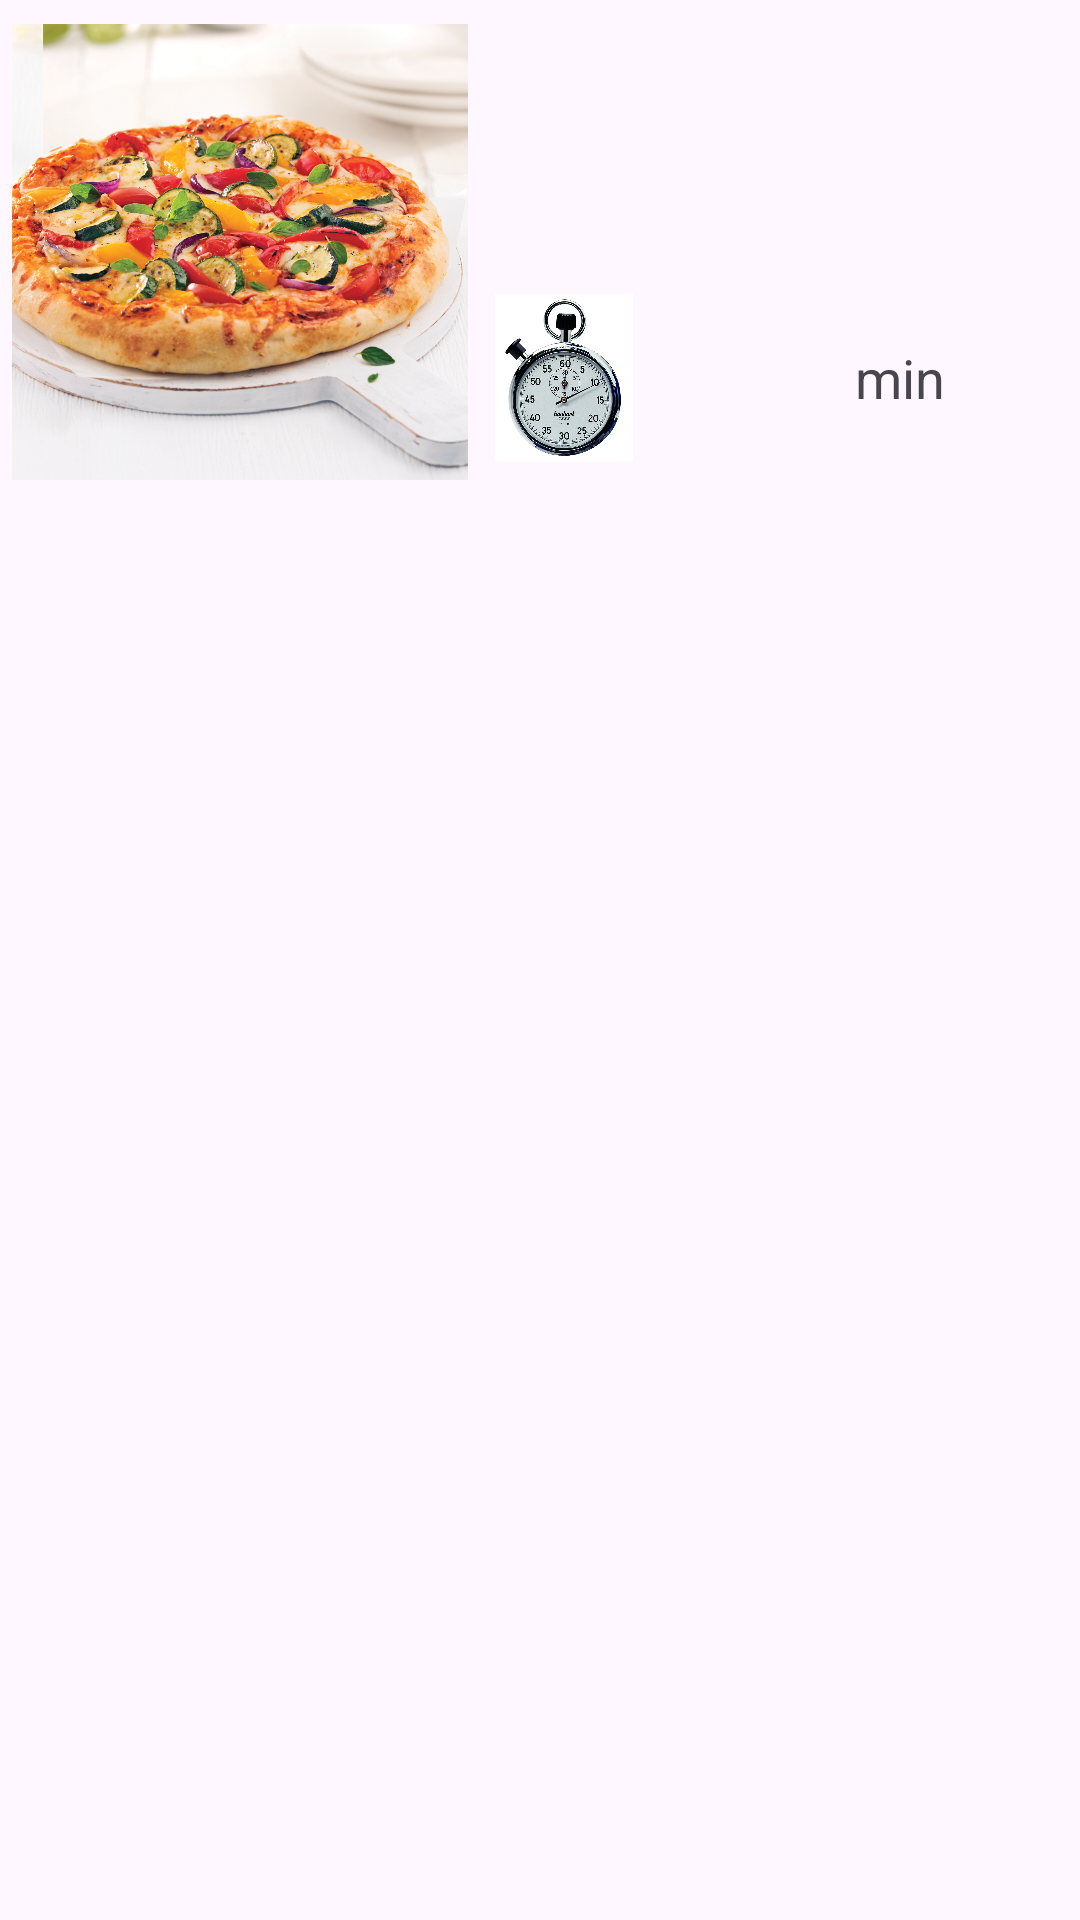

Point at icon controls on the screen. Image size 1080 x 1920, points as (x=x, y=y).
iconchrono: (x=563, y=377)
